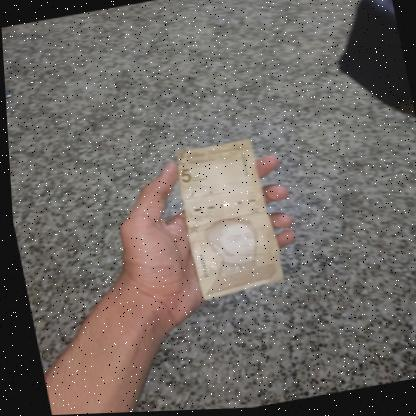five-front-vef: (169, 137, 282, 302)
